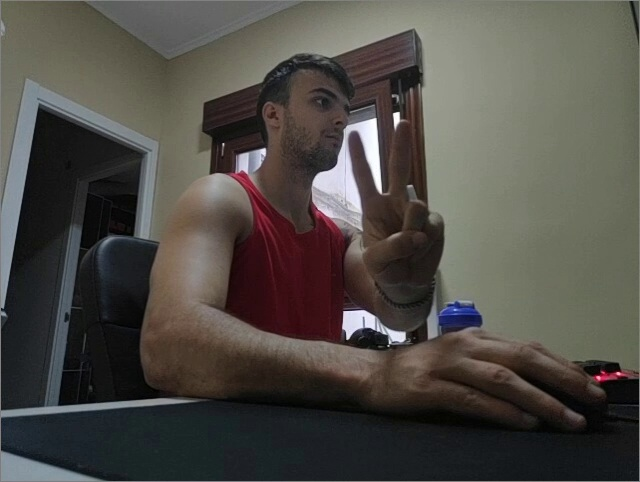Peace: (346, 117, 449, 290)
